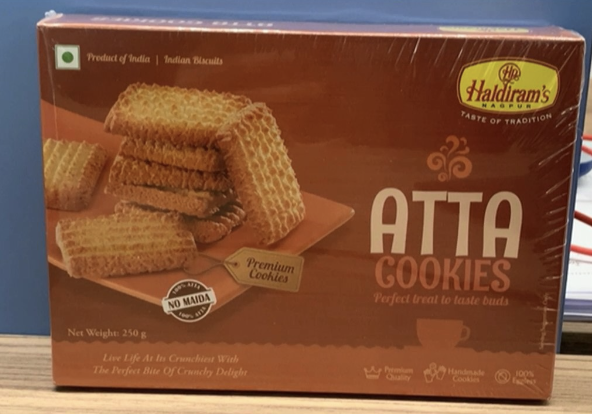cookies_200g-299g: (51, 44, 541, 390)
